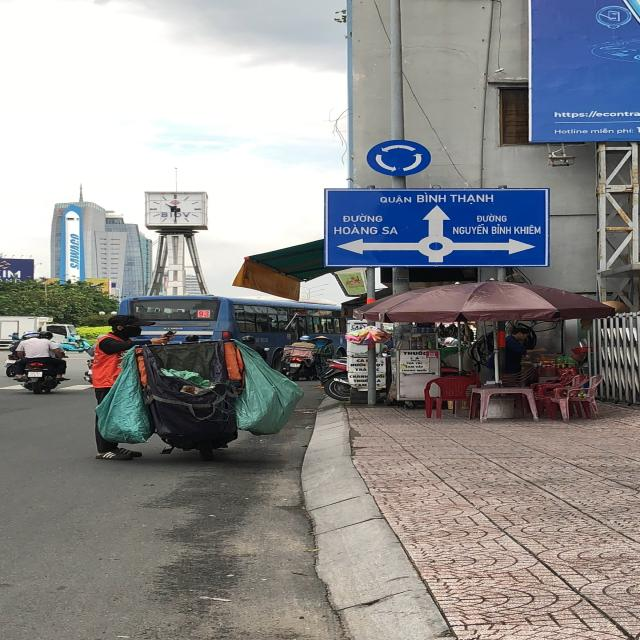Bien bao noi giao nhau chay theo vong xuyen: (364, 137, 436, 179)
